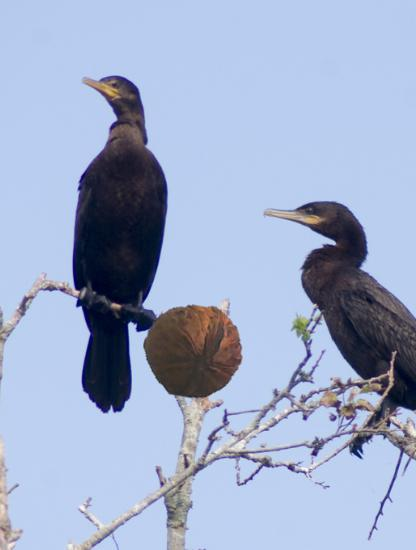Walnut: (143, 301, 243, 401)
